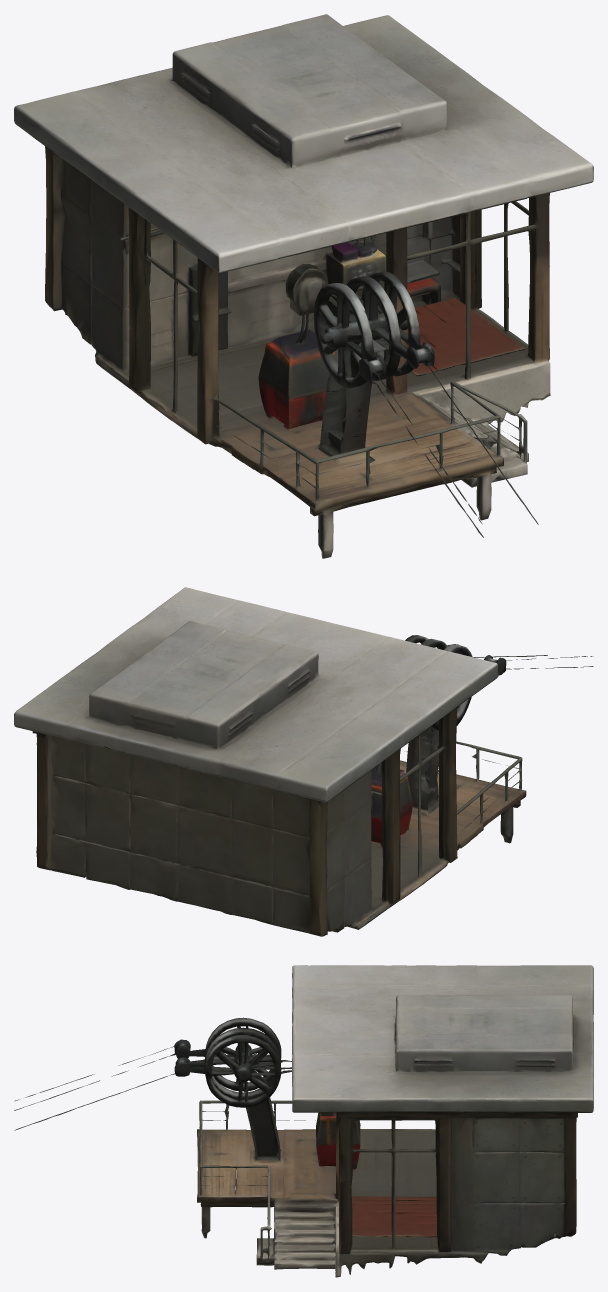
File: bondinho_estacao.glb
The picture shows the model from 3 angles, top to bottom: view 1: azimuth 30°, elevation 25°; view 2: azimuth 150°, elevation 25°; view 3: azimuth 270°, elevation 25°; orthographic projection. The views are drawn at different scales.
Parts seen in each view (by area): view 1: tripo_node_af2fef1a-5b8d-404e-898a-b40b2a3a5541; view 2: tripo_node_af2fef1a-5b8d-404e-898a-b40b2a3a5541; view 3: tripo_node_af2fef1a-5b8d-404e-898a-b40b2a3a5541.
Boxes of the visible parts, bbox=[...] form: tripo_node_af2fef1a-5b8d-404e-898a-b40b2a3a5541: bbox=[14, 14, 593, 558]; tripo_node_af2fef1a-5b8d-404e-898a-b40b2a3a5541: bbox=[14, 587, 593, 936]; tripo_node_af2fef1a-5b8d-404e-898a-b40b2a3a5541: bbox=[14, 965, 593, 1277].
Bounding box in the file's own units: 0.5486 × 0.4233 × 0.9997.
1 material, 1 textured.
